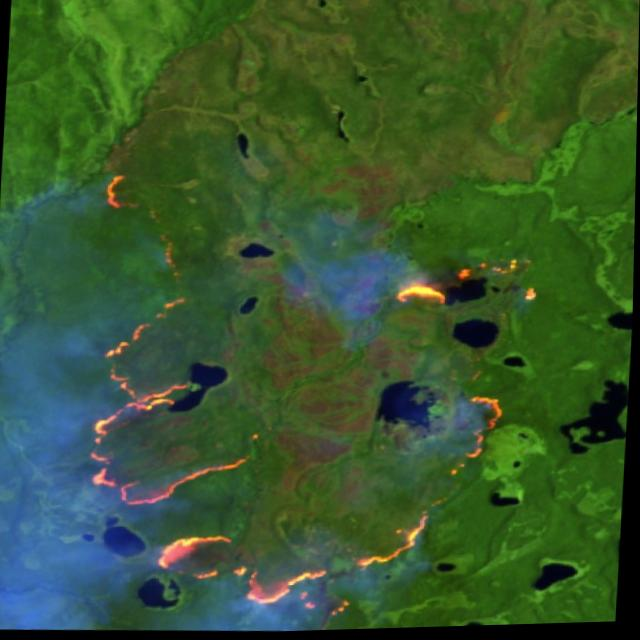fire: (82, 161, 548, 627)
